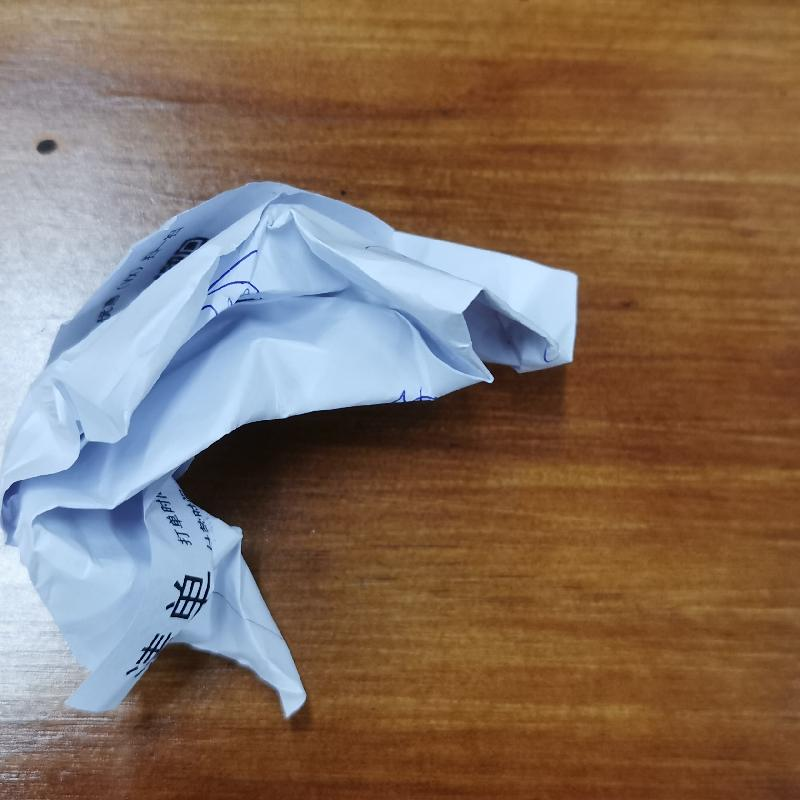spitball: (6, 173, 590, 722)
